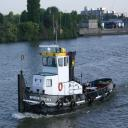tugboat: (17, 11, 118, 121)
